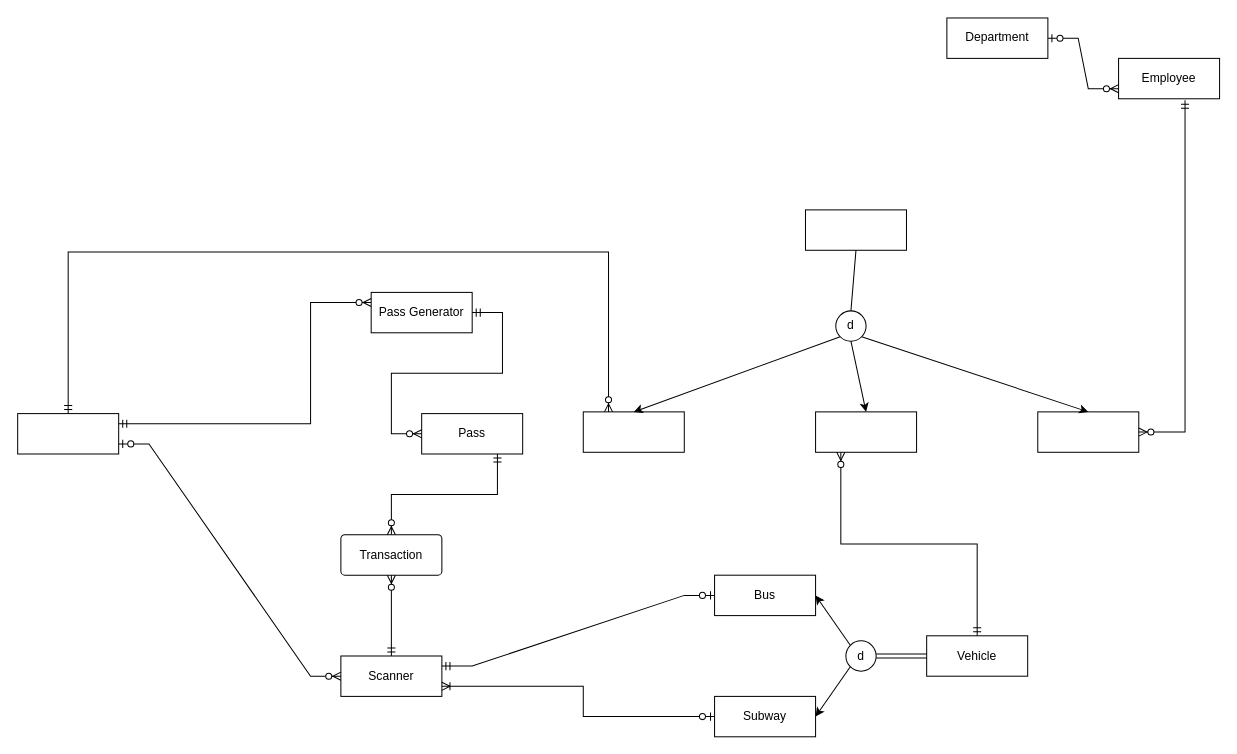
Some shapes in this 1237 by 754 pixel diagram are drawn without their labels. The box of each missing label's shape, as (x1, y1, x2, y2) in pixels:
Electricity: (582, 411, 684, 452)
Expense: (804, 209, 906, 250)
Fuel & Energy: (815, 411, 917, 452)
Salary: (1037, 411, 1139, 452)
Train Station: (17, 413, 119, 454)
